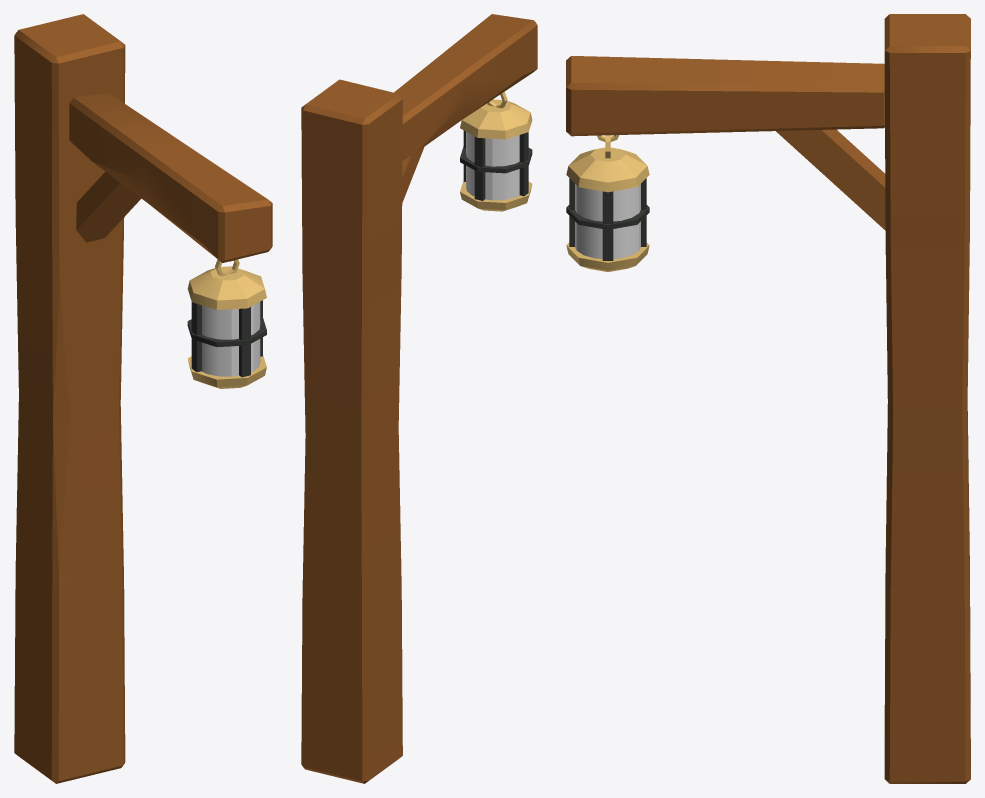
The model's file is Lamp_1.fbx.
3 views of the same model, side by side, from view 1: azimuth 30°, elevation 25°; view 2: azimuth 150°, elevation 25°; view 3: azimuth 270°, elevation 25° (orthographic). The views are drawn at different scales.
Parts seen in each view (by area): view 1: Cylinder.002; view 2: Cylinder.002; view 3: Cylinder.002.
Boxes of the visible parts, box(x1,y1,x2,y2) form: Cylinder.002: box(14, 14, 272, 783); Cylinder.002: box(301, 14, 537, 783); Cylinder.002: box(566, 14, 970, 783).
Size of the model in its own units: 33.54 by 317 by 157.
